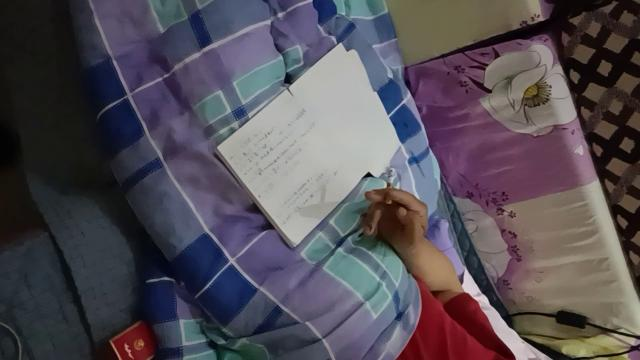Cigarette: (386, 170, 394, 204)
